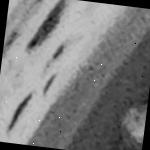colony: (111, 91, 148, 150)
